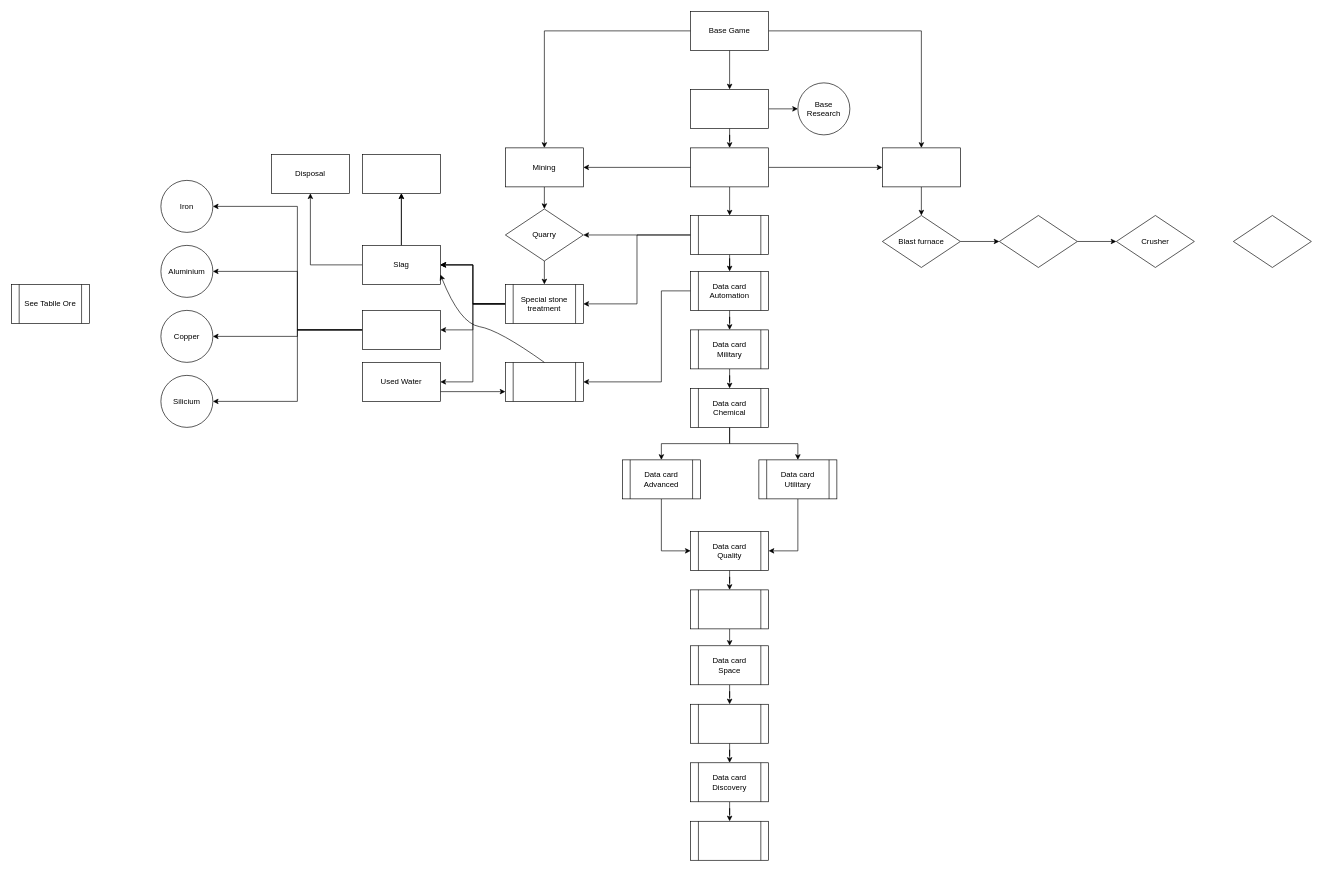
The diagram is 1323 pixels wide and 872 high, and some of its shapes have lost their labels. Each missing label, with the box of its shape:
Concrete: (362, 154, 440, 193)
Data card Base: (690, 215, 769, 254)
Data card Deep Space: (690, 704, 769, 743)
Data card Interstellar: (690, 821, 769, 860)
Modded research: (690, 147, 769, 187)
Ore: (362, 310, 440, 349)
Production: (882, 147, 960, 187)
Purifier: (1233, 215, 1311, 267)
Reseach: (690, 89, 769, 128)
Silo Small Medium: (690, 589, 769, 629)
Treatment plant: (999, 215, 1077, 267)
Water Treatment: (505, 362, 583, 401)
